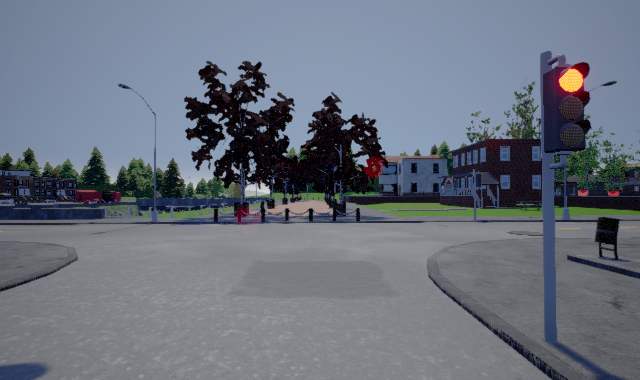traffic_light: (543, 61, 592, 153)
